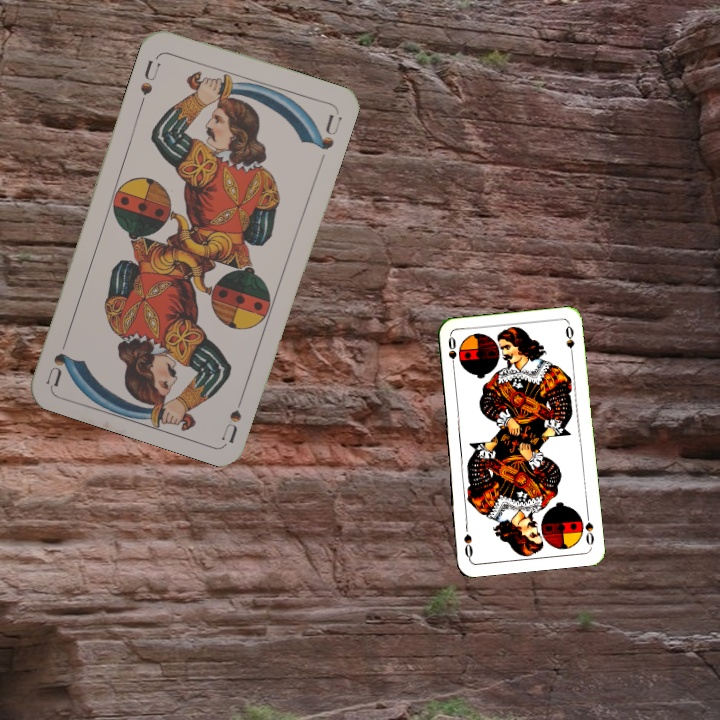SO: (444, 333, 459, 373), (581, 509, 596, 549)
SU: (217, 385, 249, 444), (136, 56, 164, 108)
